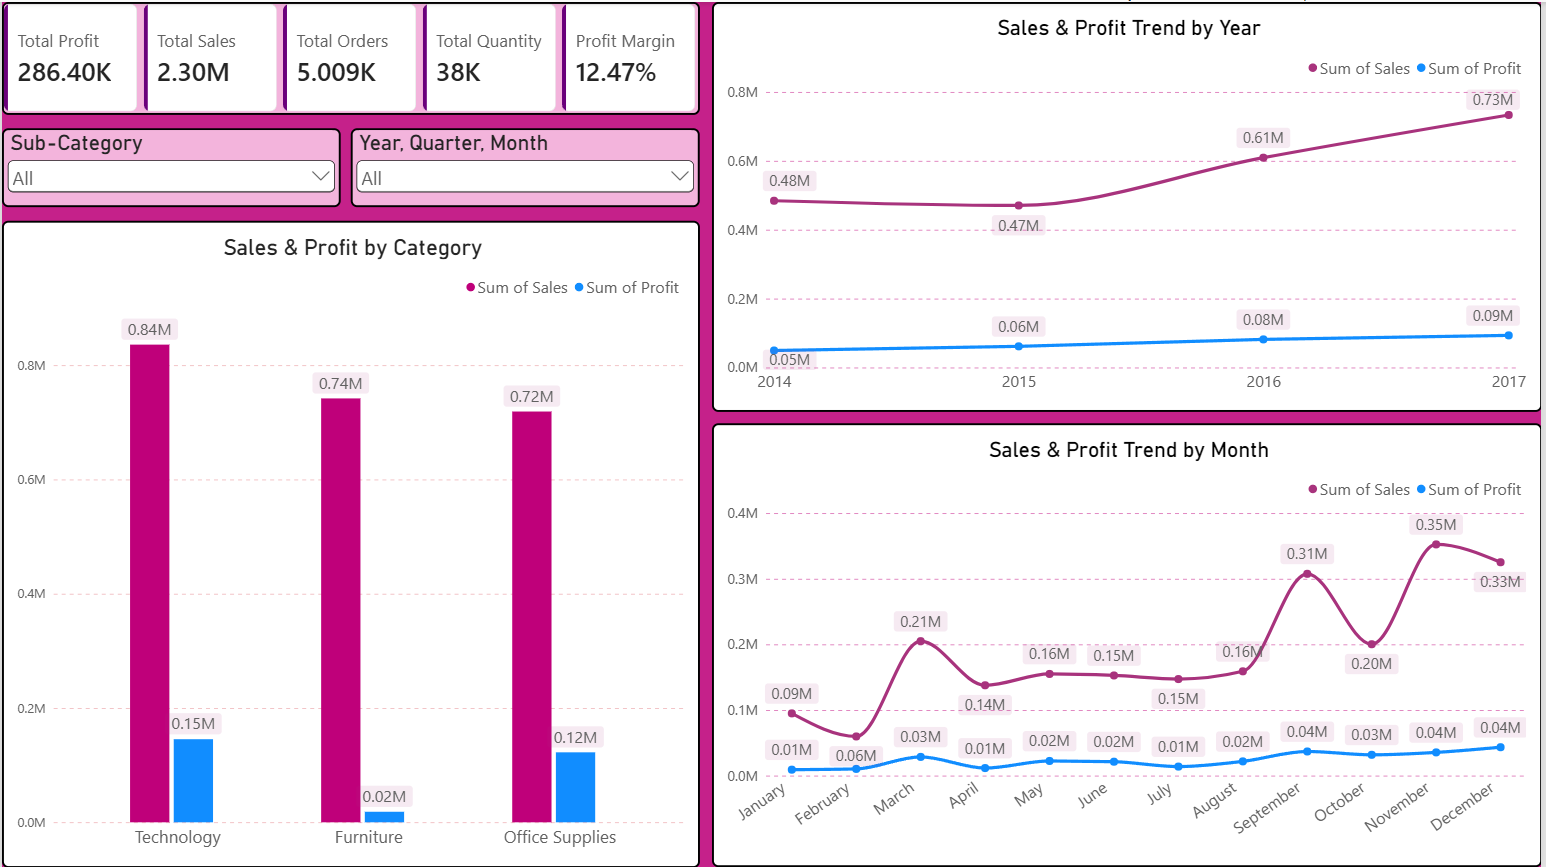

The page's visual inventory and layout, read from the dashboard file:
{"tool":"powerbi","page":{"name":"Sales Overview","canvas":[1920,1080],"ordinal":0},"visuals":[{"type":"cardVisual","fields":{"Data":["Sum(csv cleaned sales profitability analysis.Profit)","Sum(csv cleaned sales profitability analysis.Sales)","Count(csv cleaned sales profitability analysis.Order ID)","Sum(csv cleaned sales profitability analysis.Quantity)","csv cleaned sales profitability analysis.profit Margin dax"]},"box":[0,0,870.4,140.7],"z":0},{"type":"lineChart","title":"Sales & Profit Trend by Year","fields":{"Category":["csv cleaned sales profitability analysis.Order Date.Variation.Date Hierarchy.Year"],"Y":["Sum(csv cleaned sales profitability analysis.Sales)","Sum(csv cleaned sales profitability analysis.Profit)"]},"box":[885.2,0,1035.2,511.1],"z":1},{"type":"clusteredColumnChart","title":"Sales & Profit by Category","fields":{"Category":["csv cleaned sales profitability analysis.Category"],"Y":["Sum(csv cleaned sales profitability analysis.Sales)","Sum(csv cleaned sales profitability analysis.Profit)"]},"box":[0,272.2,870.4,807.4],"z":3},{"type":"lineChart","title":"Sales & Profit Trend by Month","fields":{"Category":["csv cleaned sales profitability analysis.Order Date.Variation.Date Hierarchy.Month"],"Y":["Sum(csv cleaned sales profitability analysis.Sales)","Sum(csv cleaned sales profitability analysis.Profit)"]},"box":[885.2,525.9,1035.2,553.7],"z":5},{"type":"slicer","fields":{"Values":["csv cleaned sales profitability analysis.Sub-Category"]},"box":[0,157.4,422.2,98.1],"z":6},{"type":"slicer","fields":{"Values":["csv cleaned sales profitability analysis.Order Date.Variation.Date Hierarchy.Year","csv cleaned sales profitability analysis.Order Date.Variation.Date Hierarchy.Quarter","csv cleaned sales profitability analysis.Order Date.Variation.Date Hierarchy.Month"]},"box":[435.2,157.4,435.2,98.1],"z":7}]}

Visuals, with their boxes in screenshot pixels (x1, y1, x2, y2), scaled from the page's 1920x1080 canvas onto the 1546x867 screenshot:
cardVisual - Sum(csv cleaned sales profitability analysis.Profit) x Sum(csv cleaned sales profitability analysis.Sales): (x1=0, y1=0, x2=701, y2=113)
"Sales & Profit Trend by Year" lineChart: (x1=713, y1=0, x2=1545, y2=410)
"Sales & Profit by Category" clusteredColumnChart: (x1=0, y1=219, x2=701, y2=866)
"Sales & Profit Trend by Month" lineChart: (x1=713, y1=422, x2=1545, y2=866)
slicer - csv cleaned sales profitability analysis.Sub-Category: (x1=0, y1=126, x2=340, y2=205)
slicer - csv cleaned sales profitability analysis.Order Date.Variation.Date Hierarchy.Year x csv cleaned sales profitability analysis.Order Date.Variation.Date Hierarchy.Quarter: (x1=350, y1=126, x2=701, y2=205)
